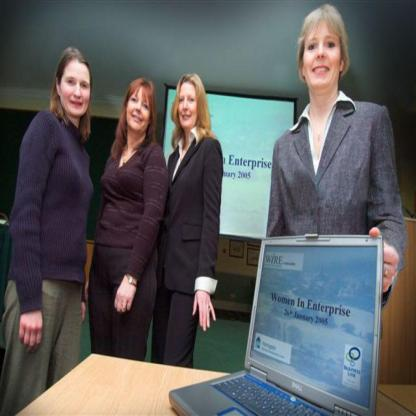board: (168, 234, 381, 416)
